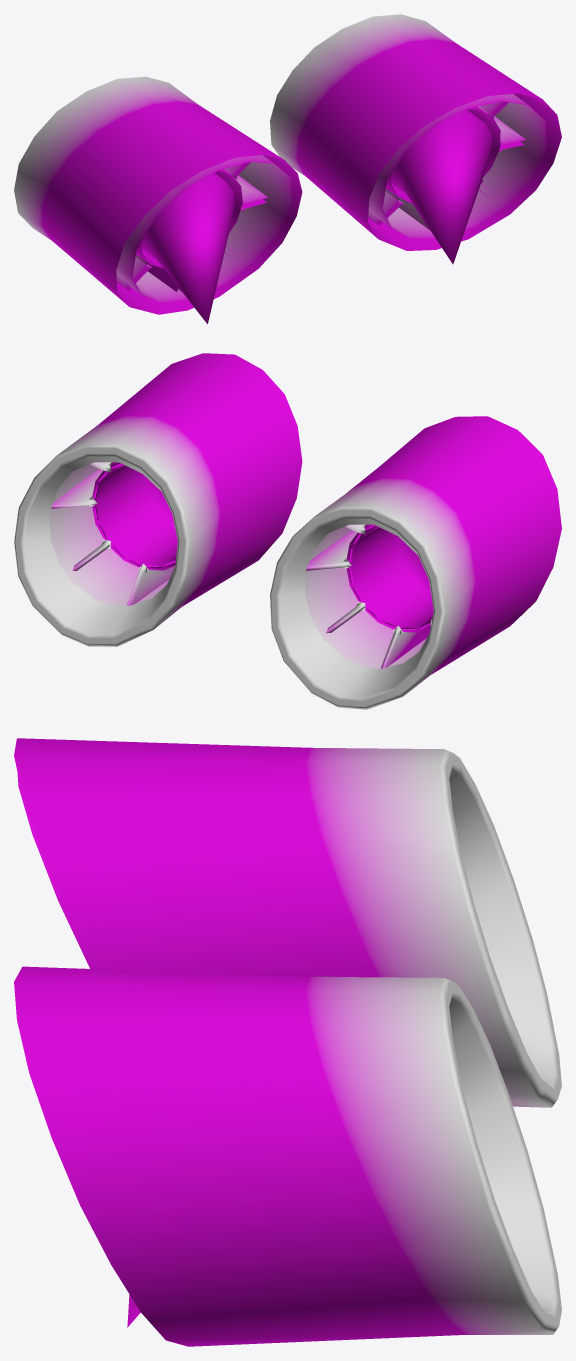
File: Car_Ford_GT_2017_Exhausts_SetA.fbx
The picture shows the model from 3 angles, top to bottom: view 1: azimuth 30°, elevation 25°; view 2: azimuth 150°, elevation 25°; view 3: azimuth 270°, elevation 25°; orthographic projection. The views are drawn at different scales.
Parts seen in each view (by area): view 1: Exhausts 6; view 2: Exhausts 6; view 3: Exhausts 6.
Part boxes in pixels (box(x1,y1,x2,y2)): Exhausts 6: box(14, 14, 561, 324); Exhausts 6: box(14, 353, 561, 709); Exhausts 6: box(14, 738, 561, 1346).
Size of the model in its own units: 0.34 by 0.1414 by 0.2011.
